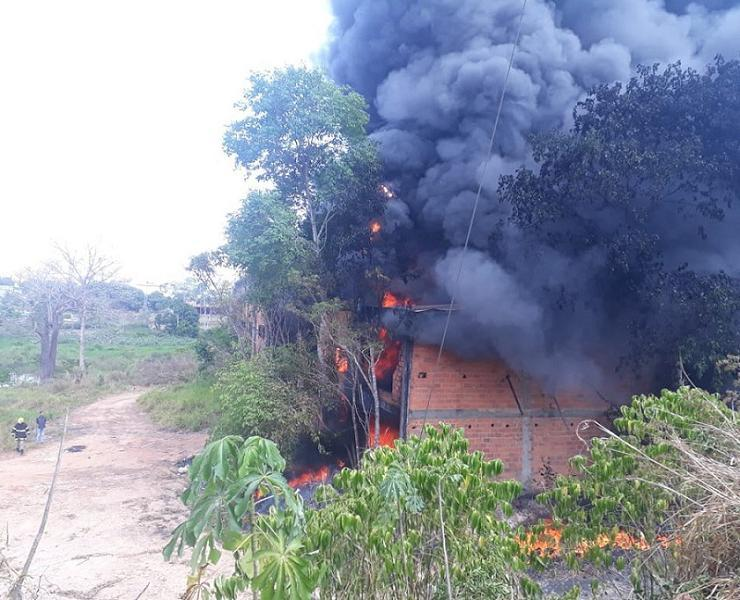Fire: (523, 527, 565, 554), (289, 466, 332, 492), (372, 340, 399, 377), (370, 417, 399, 446), (384, 289, 405, 310)
